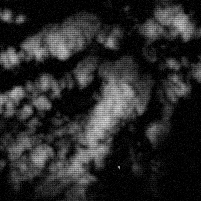dim target: (117, 164, 121, 170)
